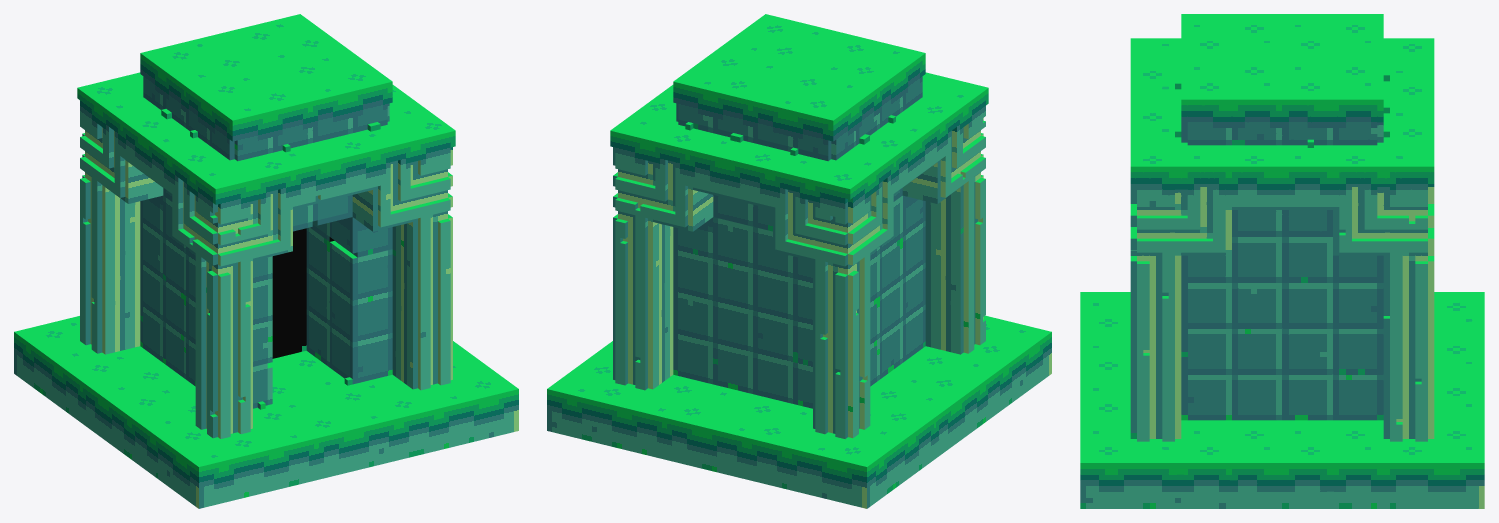
The model's file is grave_entranceao.fezao.glb.
3 renders of one model, left to right at view 1: azimuth 30°, elevation 25°; view 2: azimuth 150°, elevation 25°; view 3: azimuth 270°, elevation 25°, orthographic. The views are drawn at different scales.
Visible parts, largest first — view 1: GRAVE_ENTRANCEAO; view 2: GRAVE_ENTRANCEAO; view 3: GRAVE_ENTRANCEAO.
Part boxes in pixels (x1,y1,x2,y2): GRAVE_ENTRANCEAO: [14, 14, 518, 508]; GRAVE_ENTRANCEAO: [547, 14, 1051, 508]; GRAVE_ENTRANCEAO: [1080, 14, 1484, 508].
Bounding box in the file's own units: 4 × 4 × 4.
Materials: 1 (1 with a texture image).
